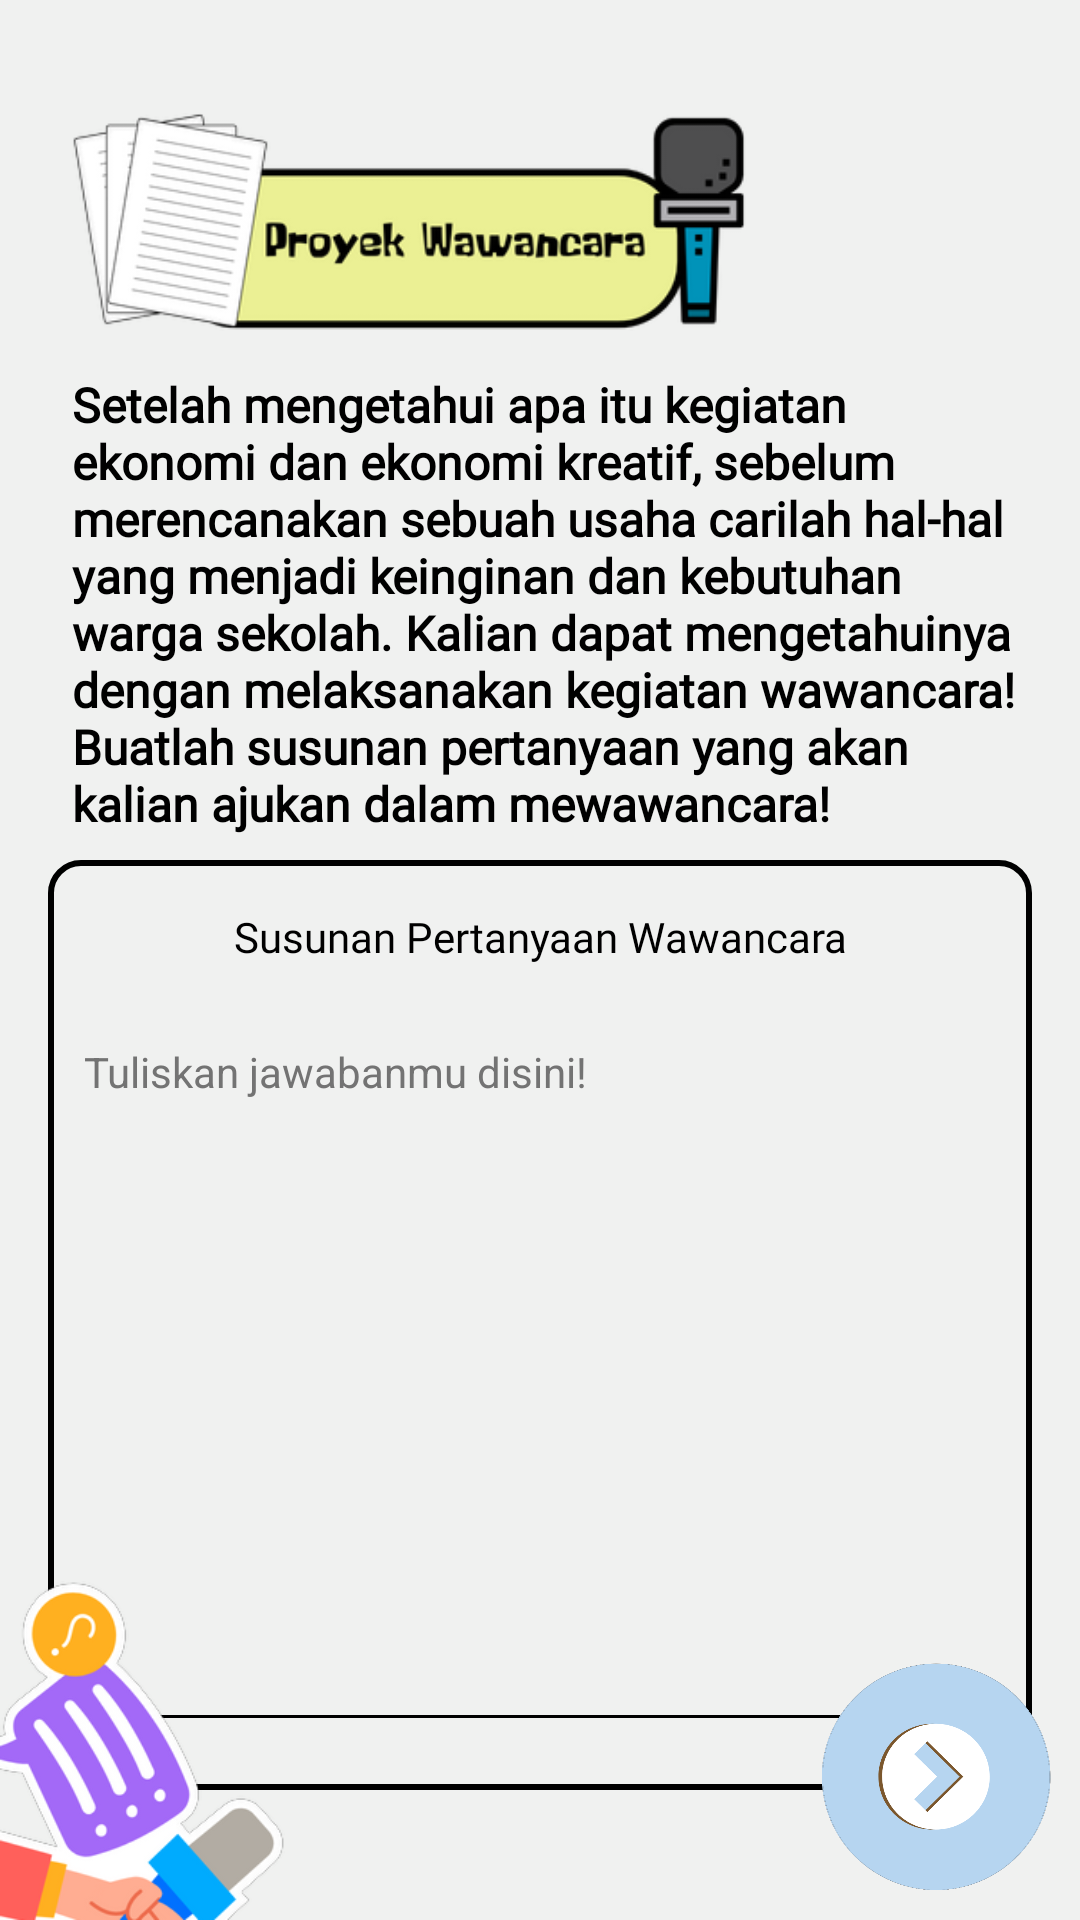

Where to tap for icons on this 1080 x 1920 app screen, as (x=x, y=y):
assets nextprev: (x=933, y=1773)
